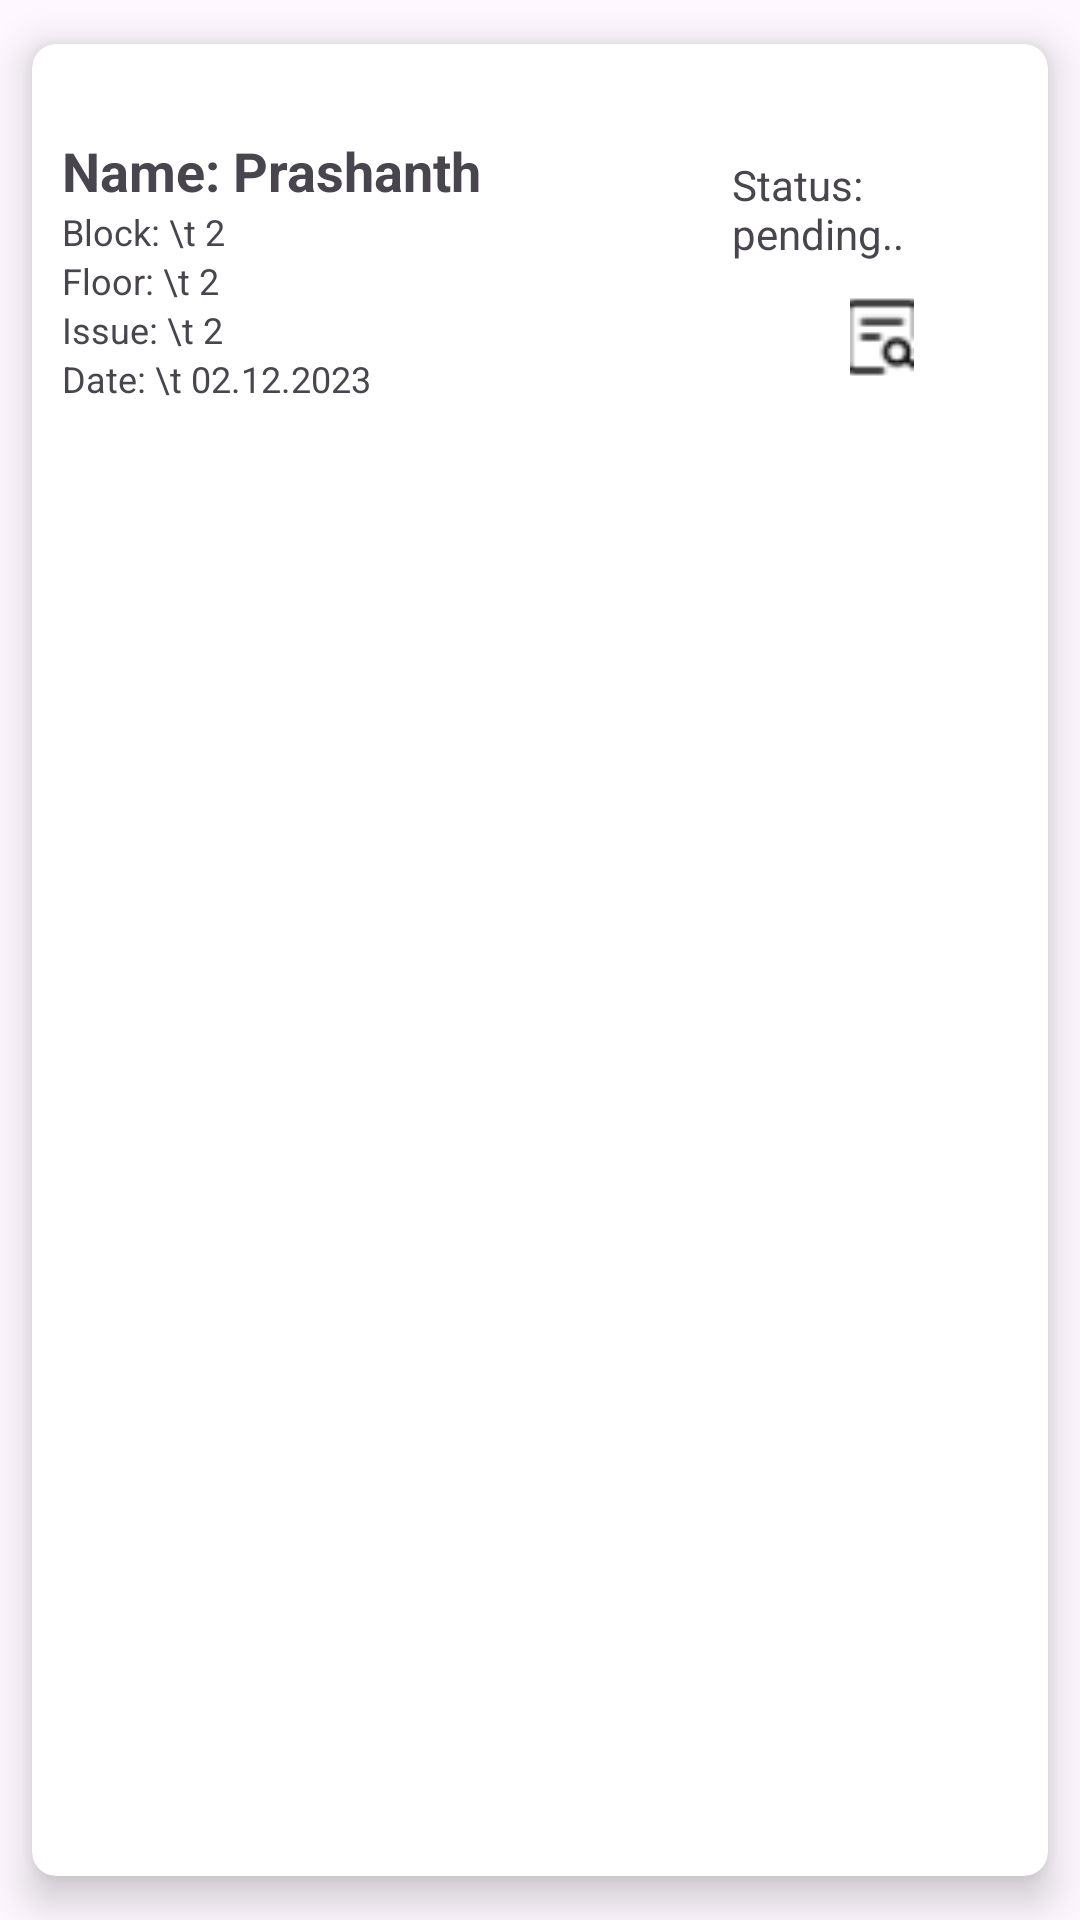

Named icons in this screenshot (1080px x 1920px) and their bounding boxes, (x1, y1, x2, y2):
Show Issue: (850, 298, 914, 376)
